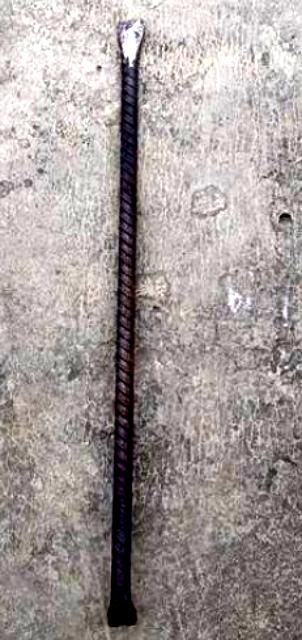crow bar: (103, 15, 153, 627)
